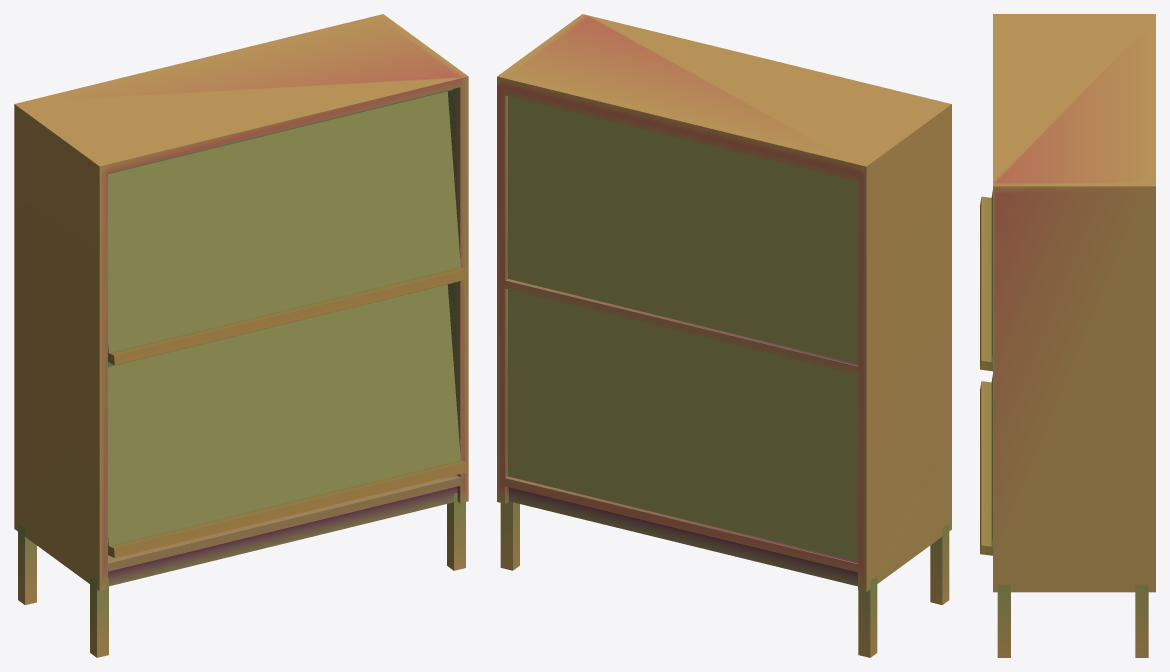
3 renders of one model, left to right at view 1: azimuth 30°, elevation 25°; view 2: azimuth 150°, elevation 25°; view 3: azimuth 270°, elevation 25°, orthographic. The views are drawn at different scales.
Parts seen in each view (by area): view 1: side, tilted_panel.001, tilted_panel, lower_rail.001, lower_rail, foot, foot.002, foot.001; view 2: back_panel, side, foot.001, foot, foot.003; view 3: side, lower_rail, lower_rail.001, foot.003, foot.002, tilted_panel.001, tilted_panel.
Part boxes in pixels (x1,y1,x2,y2): side: (14, 14, 468, 591); tilted_panel.001: (108, 91, 460, 355); tilted_panel: (108, 284, 460, 547); lower_rail.001: (108, 267, 466, 364); lower_rail: (108, 460, 466, 557); foot: (90, 576, 108, 657); foot.002: (447, 493, 465, 570); foot.001: (18, 523, 36, 605); back_panel: (508, 96, 857, 561); side: (497, 14, 951, 591); foot.001: (858, 576, 877, 657); foot: (930, 523, 949, 605); foot.003: (500, 501, 519, 570); side: (993, 14, 1155, 592); lower_rail: (980, 381, 992, 555); lower_rail.001: (980, 196, 992, 371); foot.003: (1135, 584, 1148, 657); foot.002: (997, 584, 1010, 657); tilted_panel.001: (991, 190, 992, 364); tilted_panel: (991, 375, 992, 548).
Bounding box in the file's own units: 0.7043 × 0.9 × 0.3041.
